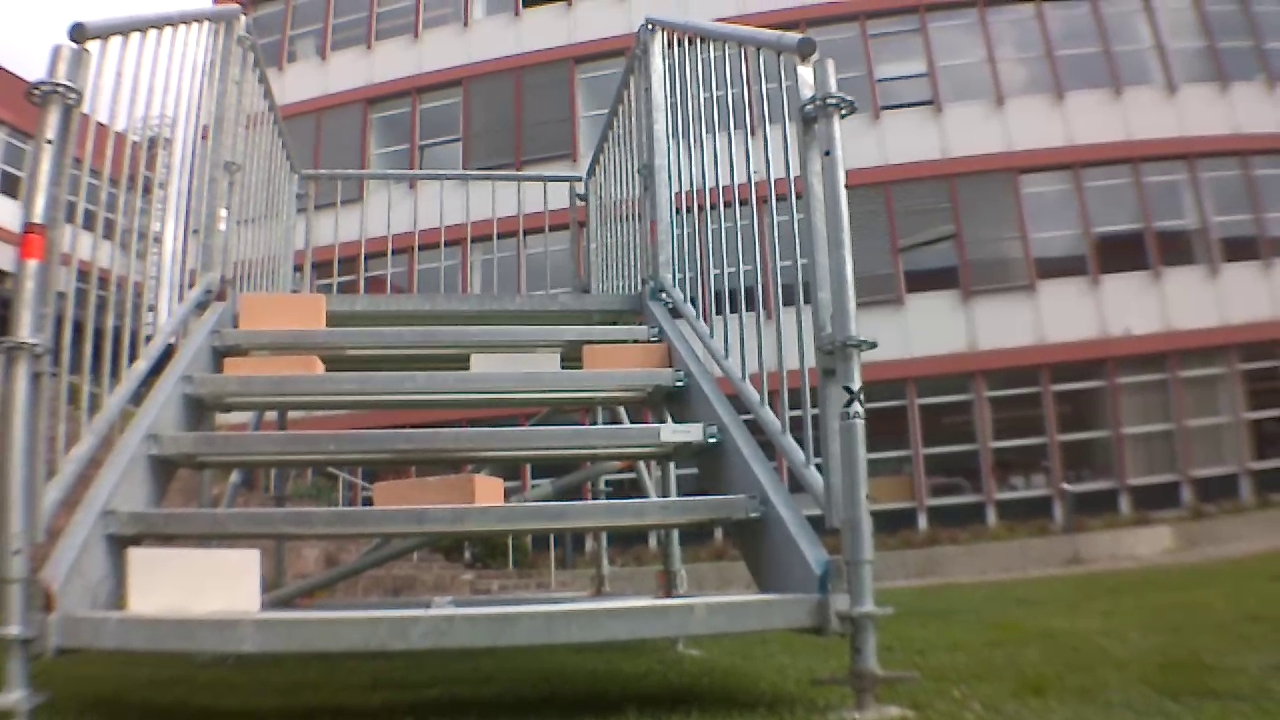brick: (126, 548, 260, 613), (373, 472, 502, 505), (239, 294, 325, 329), (583, 344, 668, 370), (471, 353, 560, 372), (224, 356, 323, 373)
edge: (58, 597, 817, 651), (105, 496, 761, 531), (146, 424, 722, 450), (185, 367, 687, 390), (212, 326, 667, 343), (229, 295, 642, 311)
stairs: (7, 5, 886, 718)
steps: (50, 288, 824, 661)
